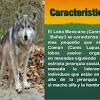Lobo: (9, 8, 36, 92)
